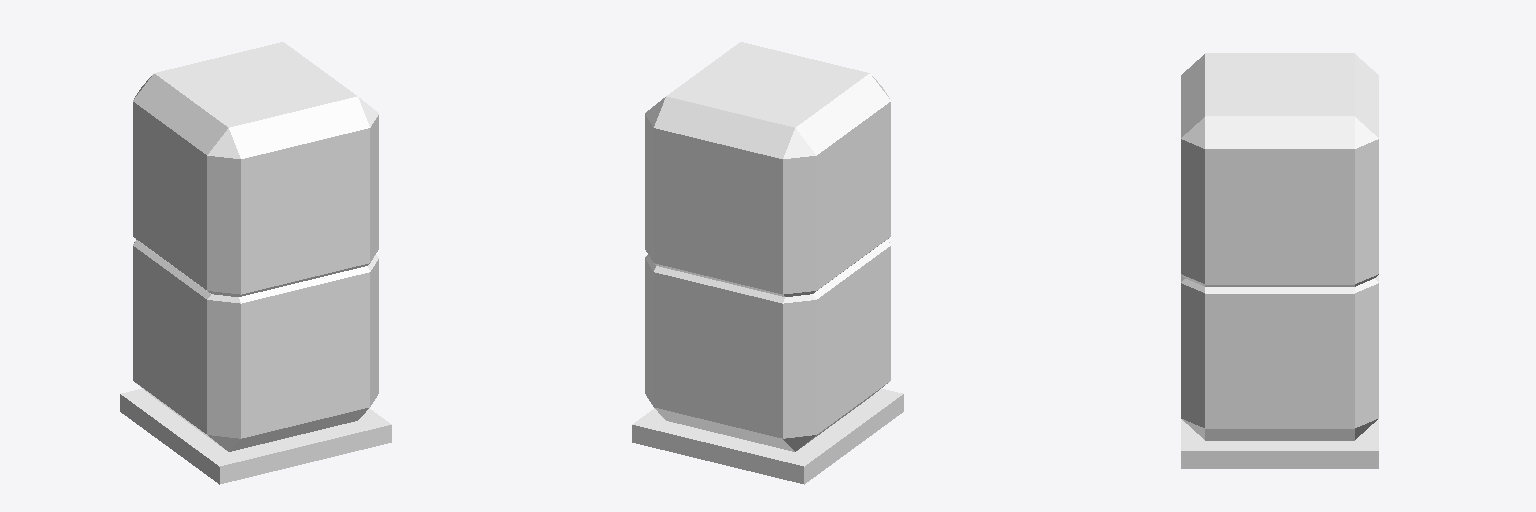
The model's file is TurretBase.obj.
3 renders of one model, left to right at view 1: azimuth 30°, elevation 25°; view 2: azimuth 150°, elevation 25°; view 3: azimuth 270°, elevation 25°, orthographic.
Bounding box in the file's own units: 1 × 1.9 × 1.